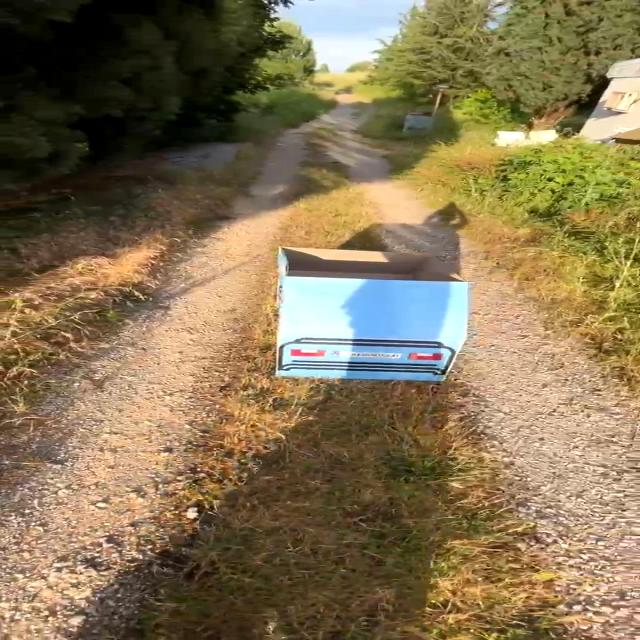blue_car: (228, 229, 504, 416)
